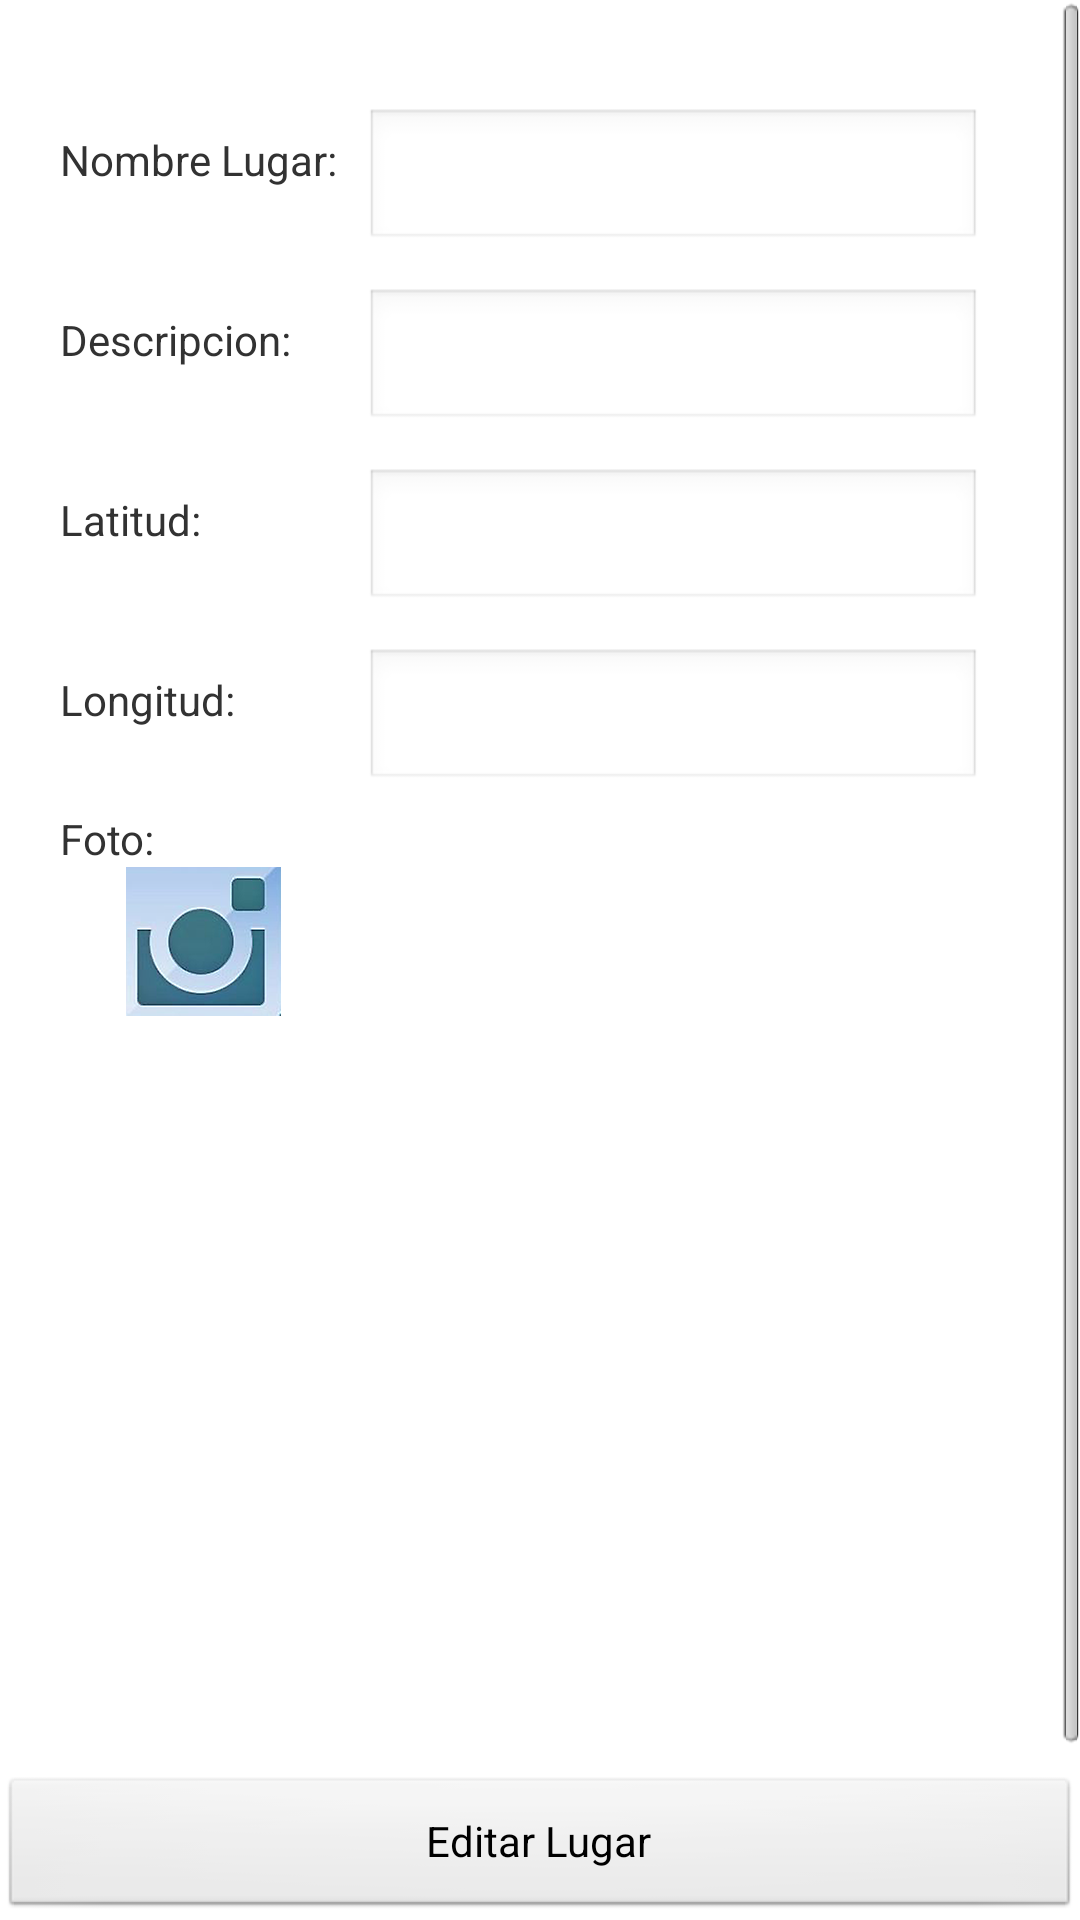

Locate icon controls on the screen. Image size 1080px x 1920px, boxes as bbox=[x1, y1, x2, y2].
camara: bbox=[126, 867, 281, 1016]
